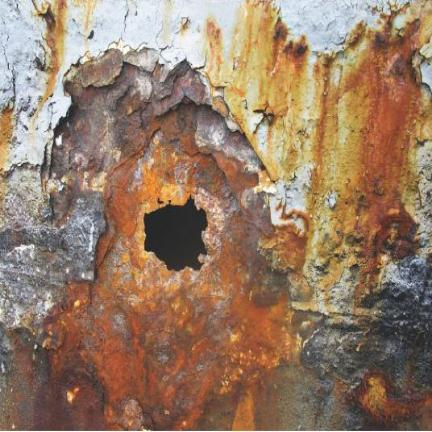karat: (34, 115, 309, 431), (223, 0, 423, 300)
